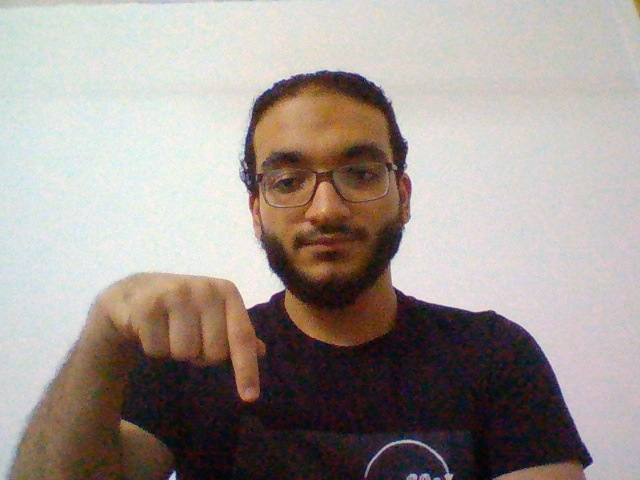Yes: (87, 261, 278, 406)
